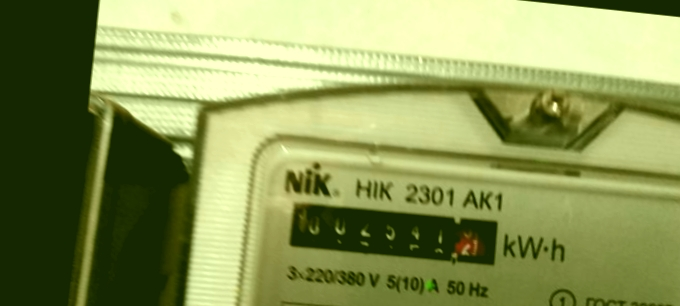0: (304, 210, 325, 238), (332, 210, 349, 238)
1: (432, 219, 447, 247)
2: (356, 213, 375, 239)
4: (408, 217, 423, 241)
5: (381, 214, 401, 244)
6: (458, 238, 474, 258)
screen: (276, 186, 515, 281)
